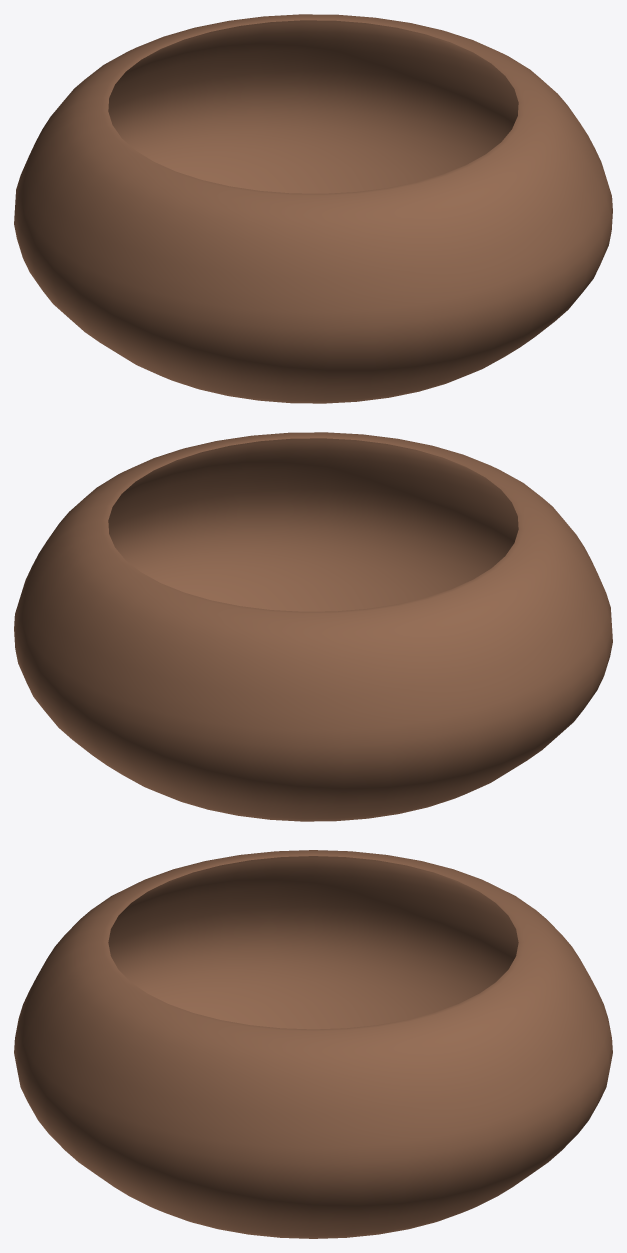
Rendered from Bowl_Arena.fbx.
3 views of the same model, one above another, from view 1: azimuth 30°, elevation 25°; view 2: azimuth 150°, elevation 25°; view 3: azimuth 270°, elevation 25° (orthographic).
Parts seen in each view (by area): view 1: Bowl_Arena; view 2: Bowl_Arena; view 3: Bowl_Arena.
Part boxes in pixels (bbox=[...]): Bowl_Arena: bbox=[14, 14, 612, 403]; Bowl_Arena: bbox=[14, 432, 612, 821]; Bowl_Arena: bbox=[14, 850, 612, 1238].
Size of the model in its own units: 90.16 by 35.13 by 90.16.
